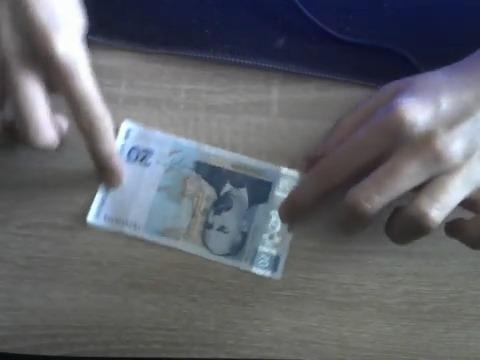20leva: (85, 119, 300, 280)
